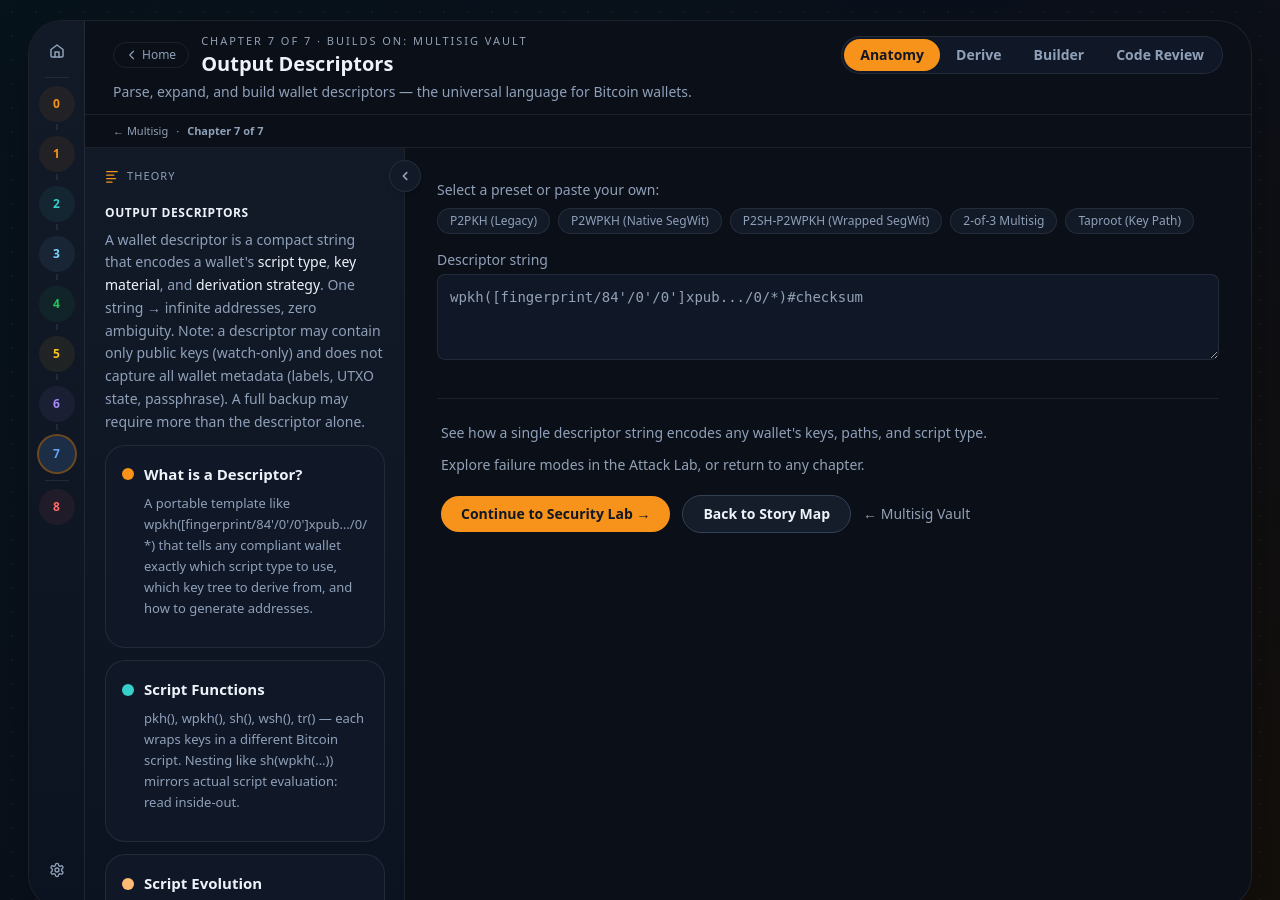
Scenario: OutputDescriptors › AC4: selecting a preset fills input and shows colored segments
The image size is (1280, 900).
Click the button "P2WPKH (Native SegWit)" at (640, 221), box [558, 208, 722, 234]
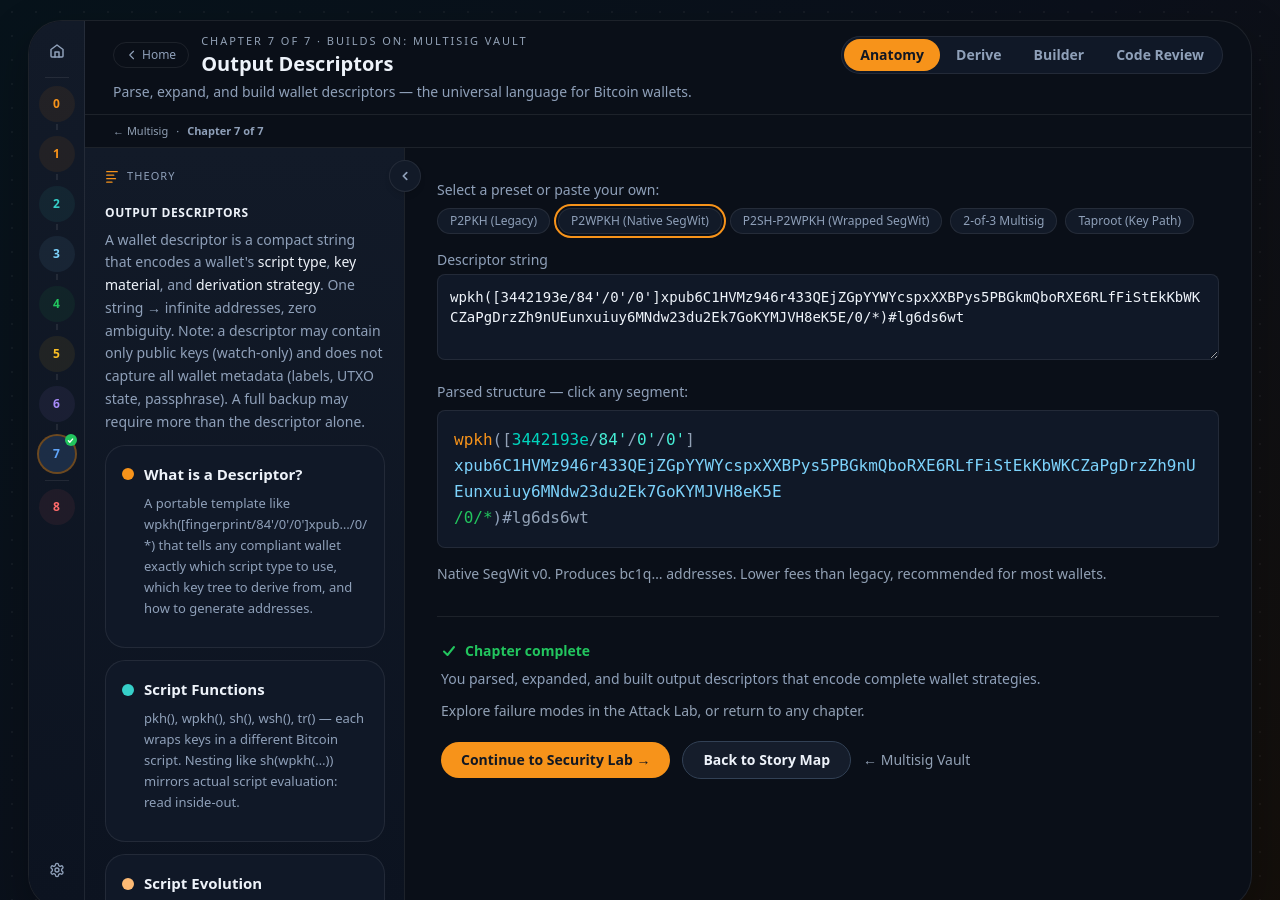
Now the text "Parsed structure — click any segment:" is shown, box [437, 382, 688, 401]
